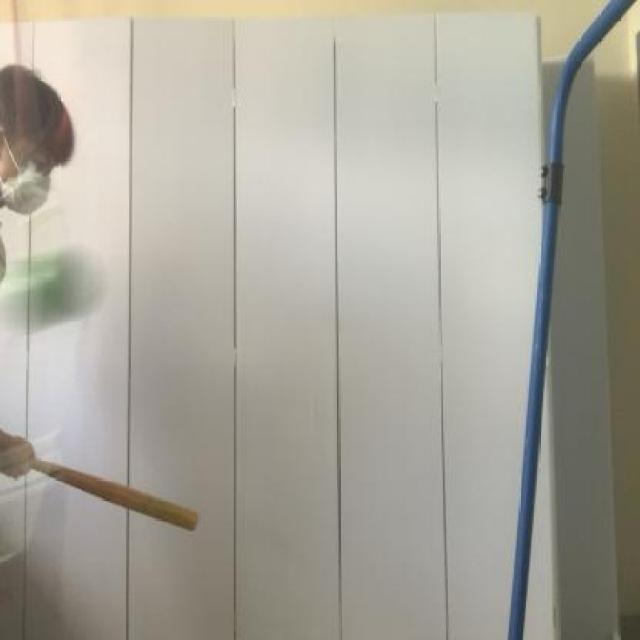baseball: (10, 239, 105, 338)
